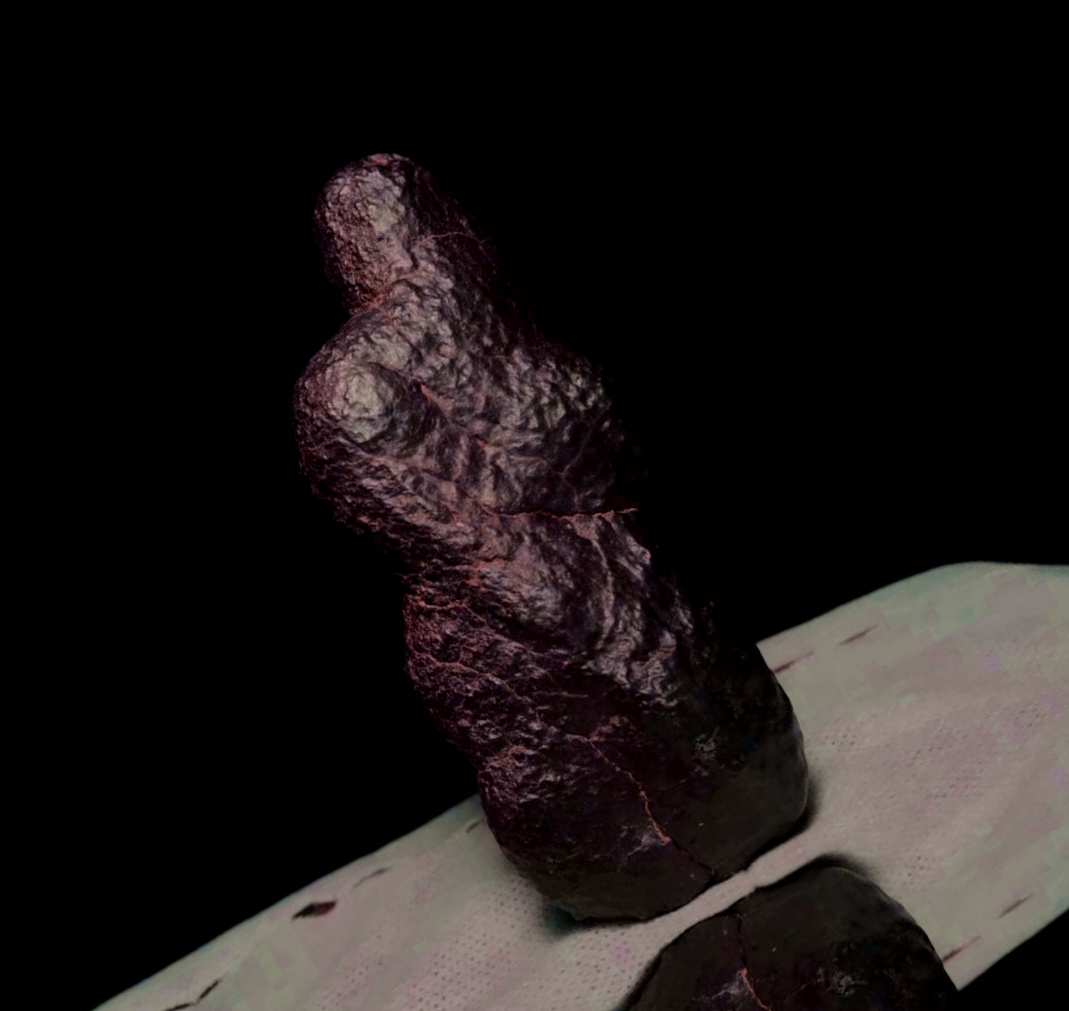halobolite: (96, 51, 919, 1011)
